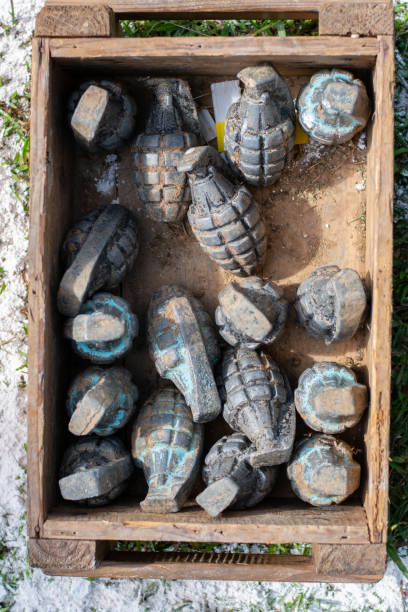e1: (181, 147, 271, 276), (144, 287, 223, 418), (223, 346, 299, 465), (223, 67, 294, 179), (59, 207, 144, 296)
